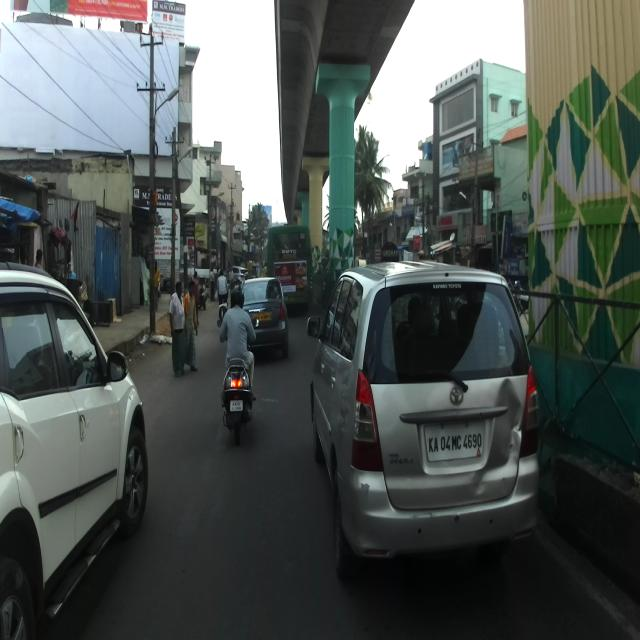car ahead at: (306, 260, 539, 596), (3, 261, 152, 640)
motorcycle ahead at: (218, 367, 256, 435)
